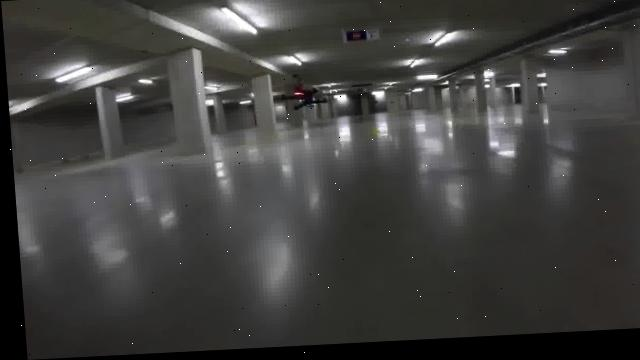drone: (249, 66, 356, 128)
